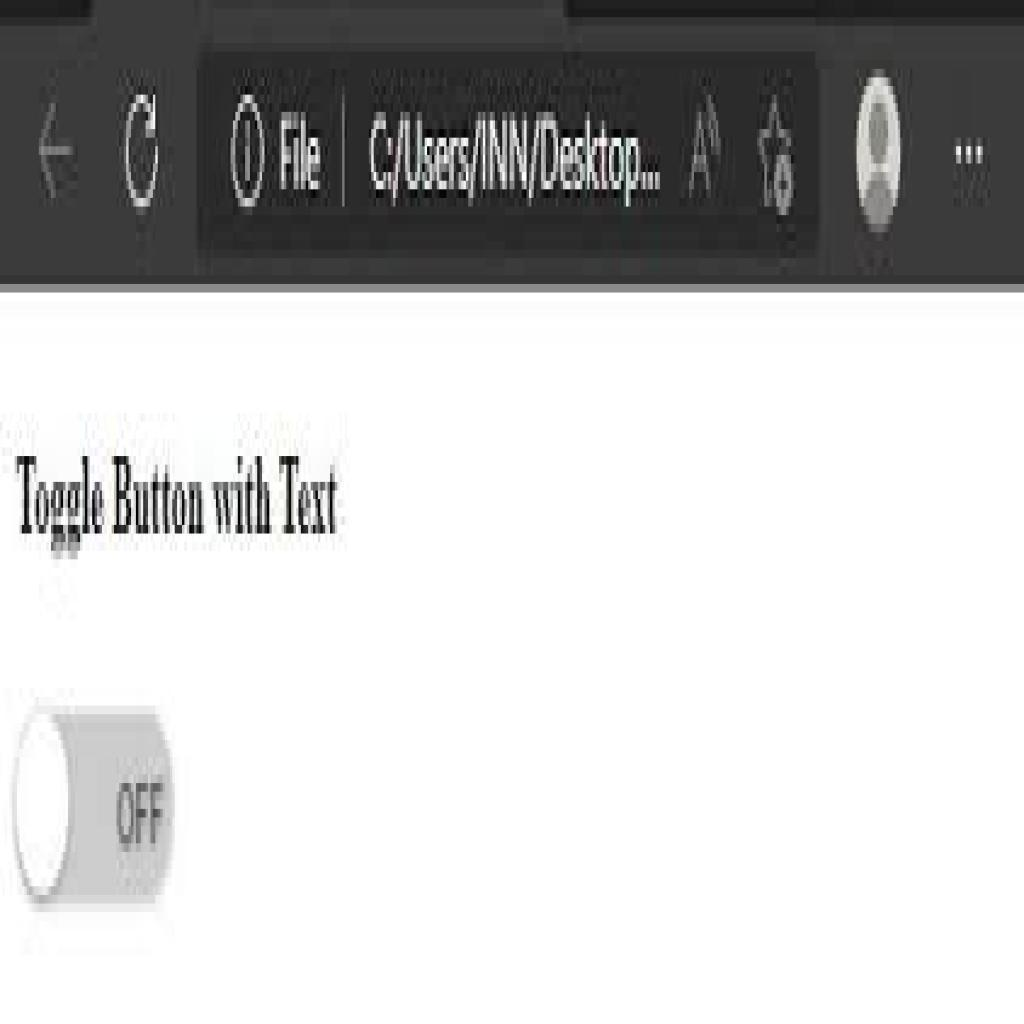switch: (19, 715, 178, 904)
